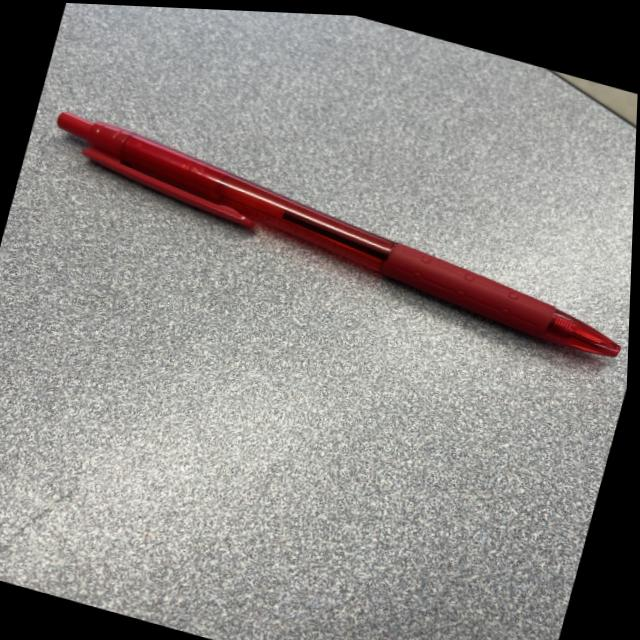pen: (32, 109, 637, 357)
